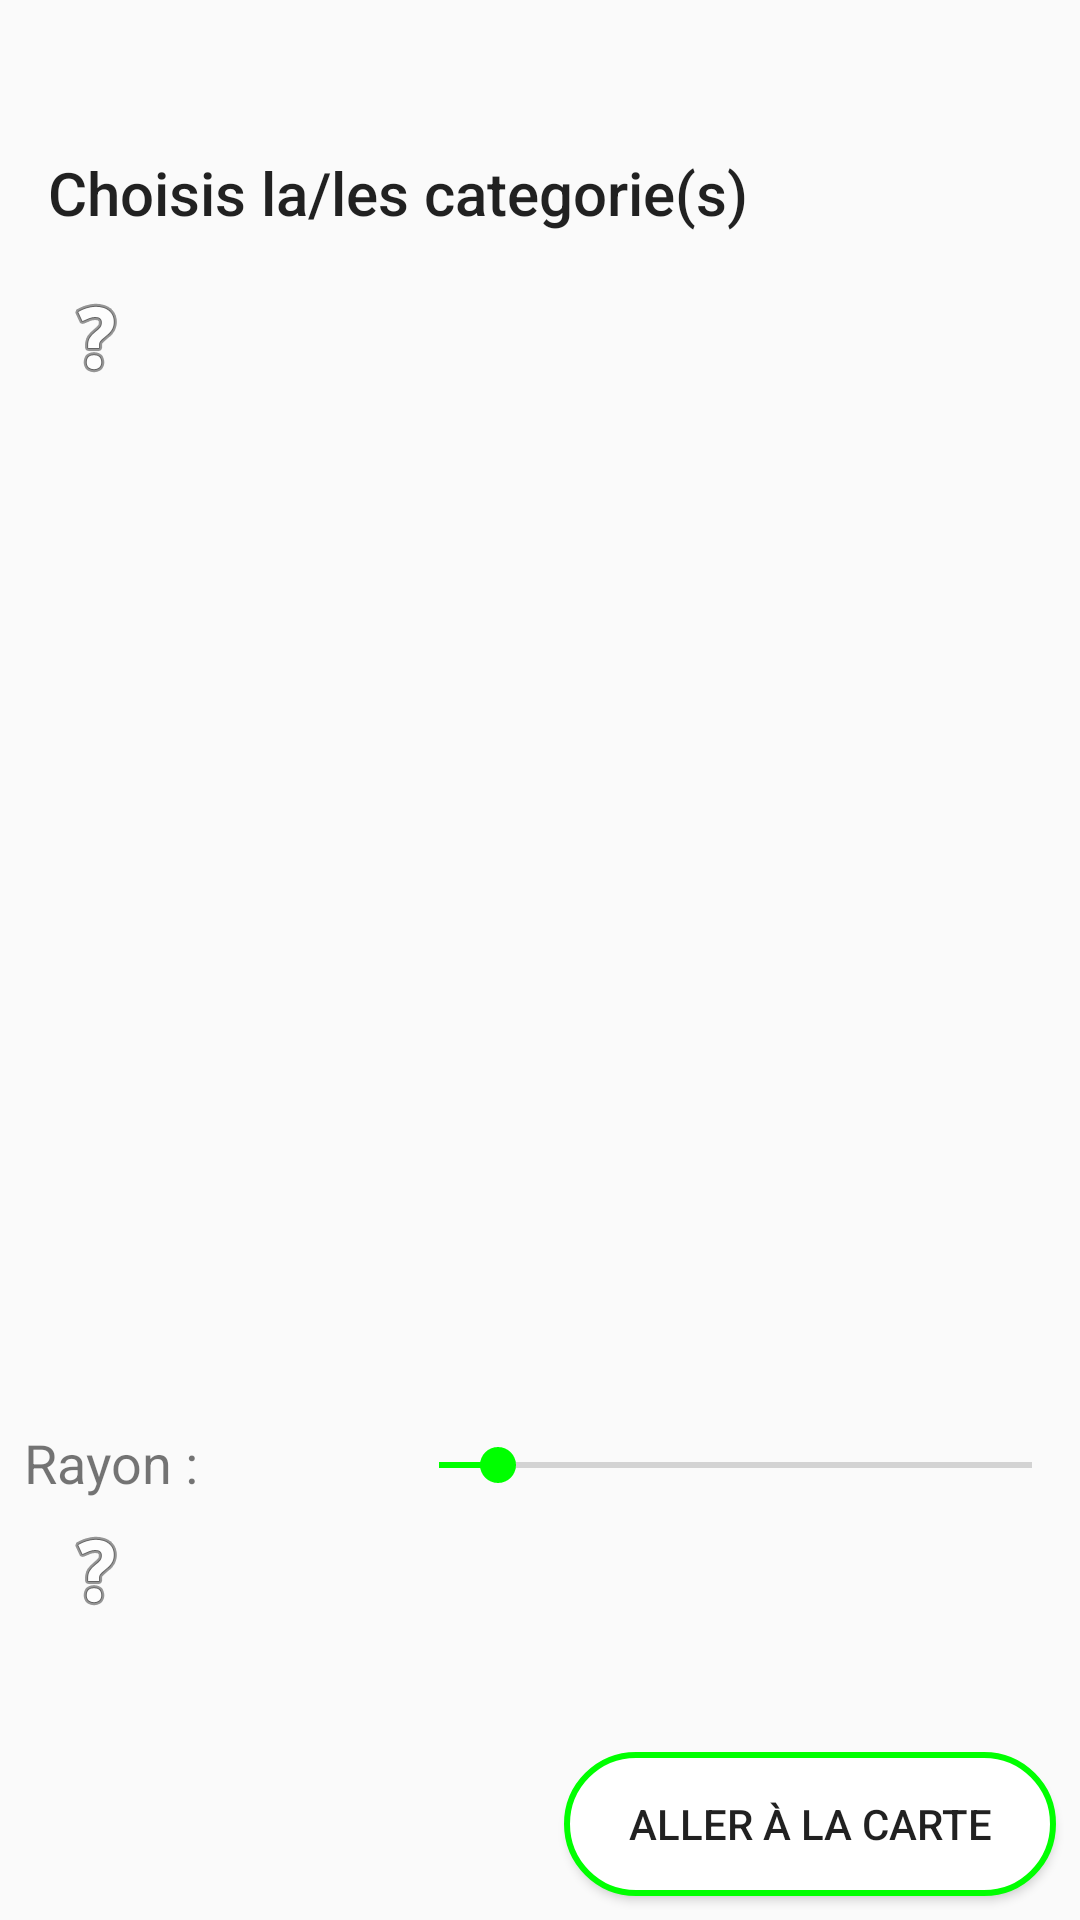

Screen size 1080px×1920px. Icon name, then its center in pixels as [x,y]:
help: [96,338], [96,1571]
